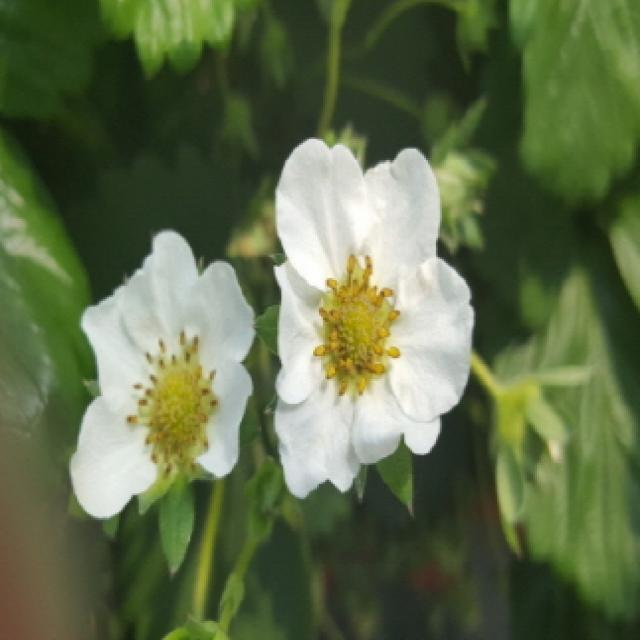Blossom Blight: (123, 323, 220, 479)
